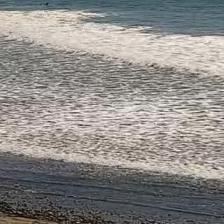surfer: (46, 2, 48, 5)
